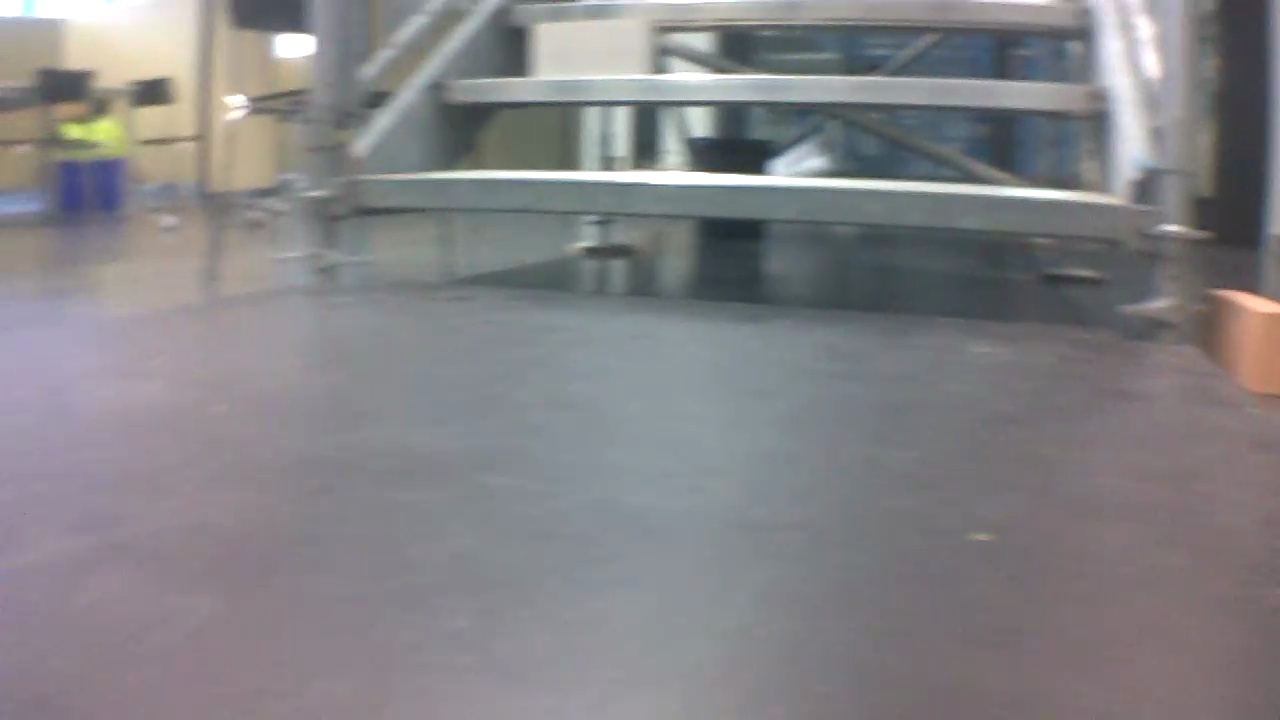brick: (531, 18, 650, 76)
edge: (357, 176, 1134, 236), (443, 77, 1101, 110), (510, 3, 1086, 23)
stairs: (299, 4, 1200, 322)
